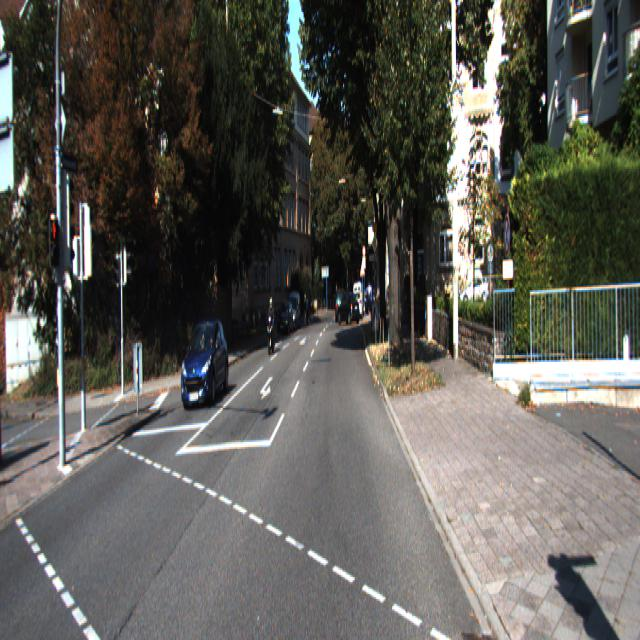Car: (179, 316, 229, 411), (336, 292, 361, 328), (265, 296, 276, 354), (276, 305, 293, 342), (352, 283, 362, 316)
